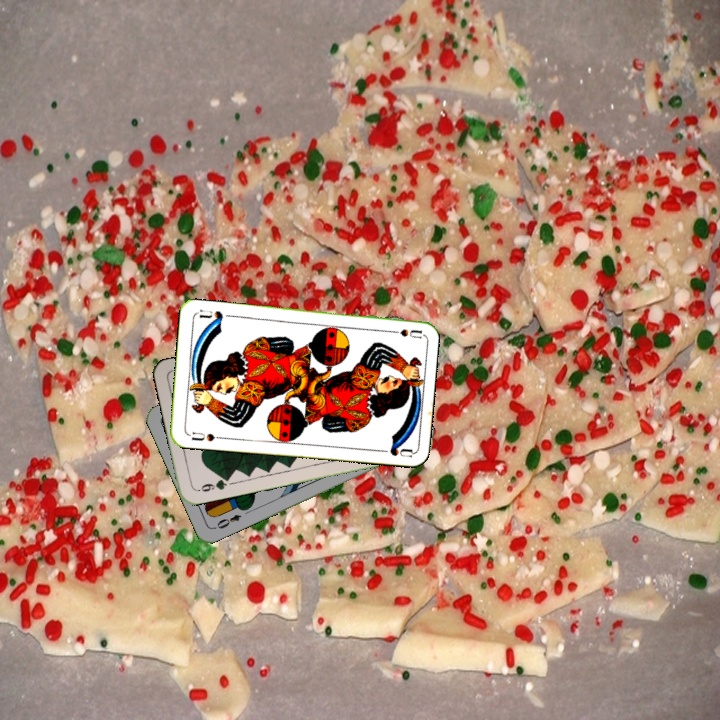EO: (210, 510, 244, 532)
G9: (193, 474, 232, 494)
SU: (382, 325, 423, 341), (188, 428, 225, 444)
